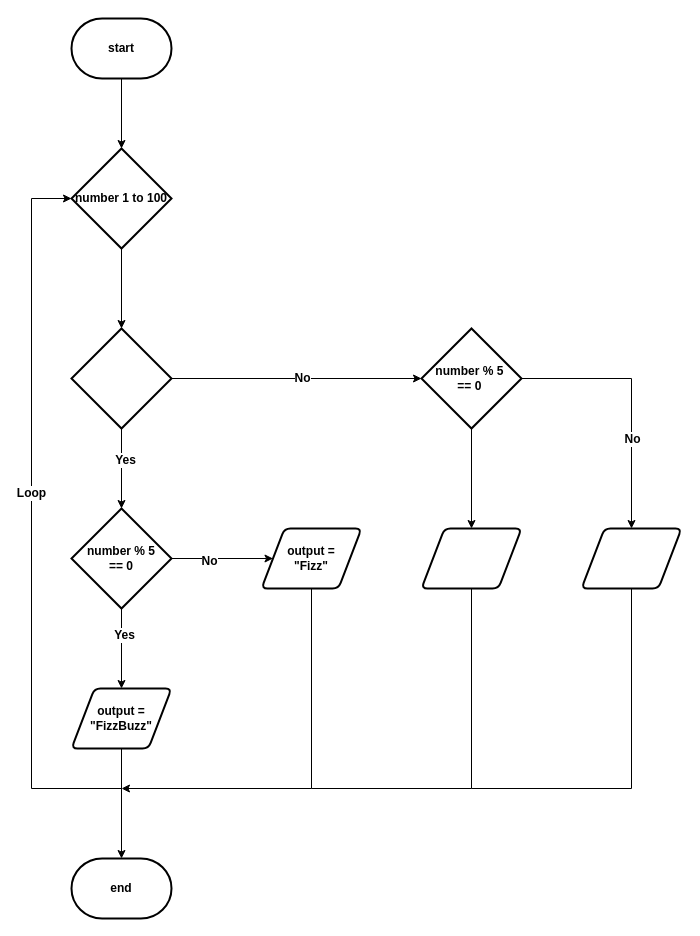
Some shapes in this 700 by 936 pixel diagram are drawn without their labels. The shapes that lost their labels are listed below. From the top down, each one's centre as x and y in pixels, then its label:
the point at 121,378: number % 3 == 0
the point at 471,558: output = "Buzz"
the point at 631,558: output = number
